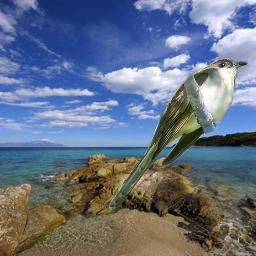Cuckoo: (106, 57, 248, 216)
